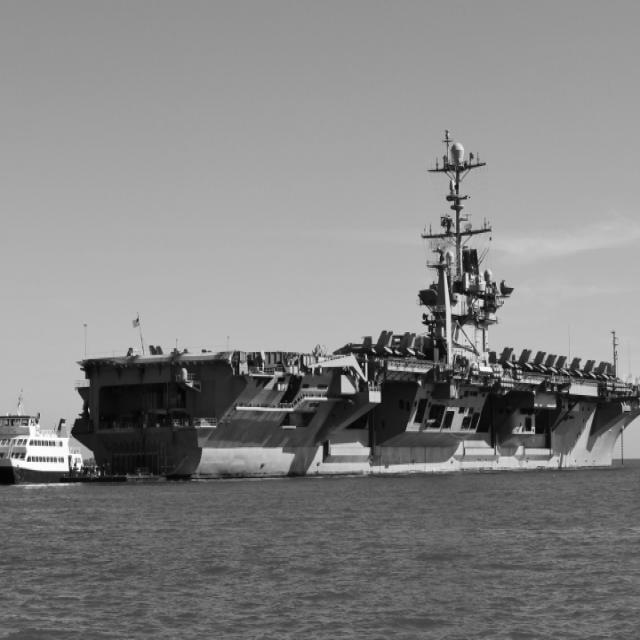Portanaves: (67, 122, 640, 490)
